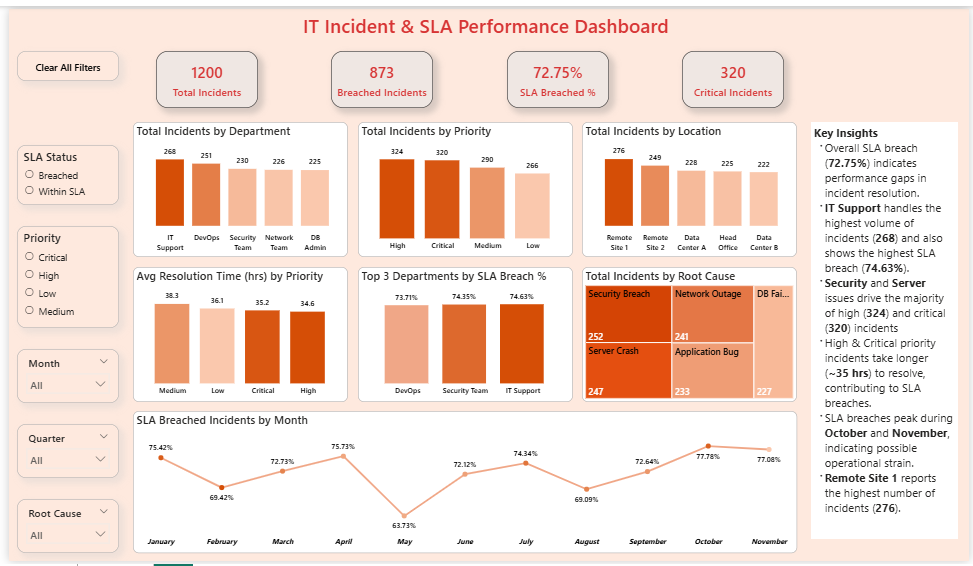

The page's visual inventory and layout, read from the dashboard file:
{"tool":"powerbi","page":{"name":"Page 1","canvas":[1530,925],"ordinal":0},"visuals":[{"type":"textbox","box":[330,0,770,46.7],"z":0},{"type":"columnChart","title":"Total Incidents by Department","fields":{"Category":["it_incident_dataset.Assigned_Department"],"Y":["it_incident_dataset.Total Incidents"]},"box":[223.3,197.8,333.3,225],"z":1000},{"type":"columnChart","fields":{"Category":["it_incident_dataset.Priority"],"Y":["it_incident_dataset.Total Incidents"]},"box":[565.2,197.8,333,225],"z":2000},{"type":"card","fields":{"Values":["it_incident_dataset.Total Incidents"]},"box":[225,61.9,172,115],"z":3000},{"type":"card","fields":{"Values":["it_incident_dataset.SLA Breach %"]},"box":[787.2,61.9,172,115],"z":4000},{"type":"card","fields":{"Values":["it_incident_dataset.Breached Incidents"]},"box":[506.1,61.9,172,115],"z":5000},{"type":"card","fields":{"Values":["it_incident_dataset.Critical Incidents"]},"box":[1068.3,61.9,171.7,115],"z":6000},{"type":"columnChart","fields":{"Category":["it_incident_dataset.Location"],"Y":["it_incident_dataset.Total Incidents"]},"box":[906.7,197.8,333.3,225],"z":7000},{"type":"columnChart","title":"Avg Resolution Time (hrs) by Priority","fields":{"Category":["it_incident_dataset.Priority"],"Y":["it_incident_dataset.Avg_Resolution_time"]},"box":[223.3,436.9,333.3,225],"z":8000},{"type":"lineChart","title":"SLA Breached Incidents by Month","fields":{"Y":["it_incident_dataset.SLA Breach"],"Category":["it_incident_dataset.Reported_Time.Variation.Date Hierarchy.Quarter","it_incident_dataset.Reported_Time.Variation.Date Hierarchy.Month"]},"box":[223.3,676.7,1016.7,241.7],"z":9000},{"type":"columnChart","title":"Top 3 Departments by SLA Breach %","fields":{"Category":["it_incident_dataset.Assigned_Department"],"Y":["it_incident_dataset.SLA Breach"]},"box":[565.2,436.9,333,225],"z":10000},{"type":"treemap","fields":{"Group":["it_incident_dataset.Incident_Type"],"Values":["it_incident_dataset.Total Incidents"]},"box":[906.7,436.9,333.3,225],"z":11000},{"type":"listSlicer","fields":{"Values":["it_incident_dataset.Priority"]},"box":[25,312.7,180,173.3],"z":12000},{"type":"slicer","fields":{"Values":["it_incident_dataset.Reported_Time.Variation.Date Hierarchy.Month"]},"box":[25,524,180,90],"z":13000},{"type":"slicer","fields":{"Values":["it_incident_dataset.Reported_Time.Variation.Date Hierarchy.Quarter"]},"box":[25,652,180,90],"z":14000},{"type":"slicer","fields":{"Values":["it_incident_dataset.Incident_Type"]},"box":[25,780,180,103.3],"z":15000},{"type":"actionButton","box":[25,61.7,180,71.7],"z":16000},{"type":"listSlicer","fields":{"Values":["it_incident_dataset.SLA Status"]},"box":[25,171.3,180,103.3],"z":17000},{"type":"textbox","box":[1261.7,211.7,245,695],"z":18000}]}

Visuals, with their boxes on the page's 1530x925 design canvas (x1, y1, x2, y2). These are canvas units, not pixel positions in the 973x566 screenshot, which may show the page scaled, cropped or inside an application window:
textbox: (x1=330, y1=0, x2=1100, y2=47)
"Total Incidents by Department" columnChart: (x1=223, y1=198, x2=557, y2=423)
columnChart - it_incident_dataset.Priority x it_incident_dataset.Total Incidents: (x1=565, y1=198, x2=898, y2=423)
card - it_incident_dataset.Total Incidents: (x1=225, y1=62, x2=397, y2=177)
card - it_incident_dataset.SLA Breach %: (x1=787, y1=62, x2=959, y2=177)
card - it_incident_dataset.Breached Incidents: (x1=506, y1=62, x2=678, y2=177)
card - it_incident_dataset.Critical Incidents: (x1=1068, y1=62, x2=1240, y2=177)
columnChart - it_incident_dataset.Location x it_incident_dataset.Total Incidents: (x1=907, y1=198, x2=1240, y2=423)
"Avg Resolution Time (hrs) by Priority" columnChart: (x1=223, y1=437, x2=557, y2=662)
"SLA Breached Incidents by Month" lineChart: (x1=223, y1=677, x2=1240, y2=918)
"Top 3 Departments by SLA Breach %" columnChart: (x1=565, y1=437, x2=898, y2=662)
treemap - it_incident_dataset.Incident_Type x it_incident_dataset.Total Incidents: (x1=907, y1=437, x2=1240, y2=662)
listSlicer - it_incident_dataset.Priority: (x1=25, y1=313, x2=205, y2=486)
slicer - it_incident_dataset.Reported_Time.Variation.Date Hierarchy.Month: (x1=25, y1=524, x2=205, y2=614)
slicer - it_incident_dataset.Reported_Time.Variation.Date Hierarchy.Quarter: (x1=25, y1=652, x2=205, y2=742)
slicer - it_incident_dataset.Incident_Type: (x1=25, y1=780, x2=205, y2=883)
actionButton: (x1=25, y1=62, x2=205, y2=133)
listSlicer - it_incident_dataset.SLA Status: (x1=25, y1=171, x2=205, y2=275)
textbox: (x1=1262, y1=212, x2=1507, y2=907)
